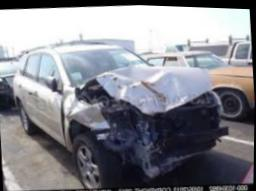Bonnet: (82, 64, 215, 114)
Bumper: (95, 119, 228, 175)
Fender: (63, 85, 115, 148)
Light: (103, 109, 150, 135)
